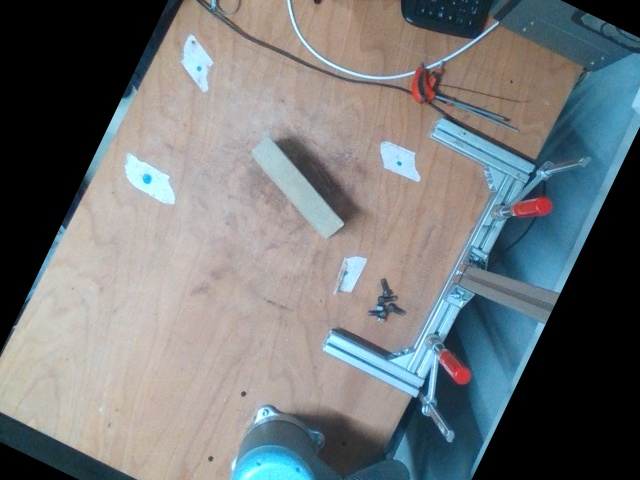brick-side: (252, 138, 340, 237)
